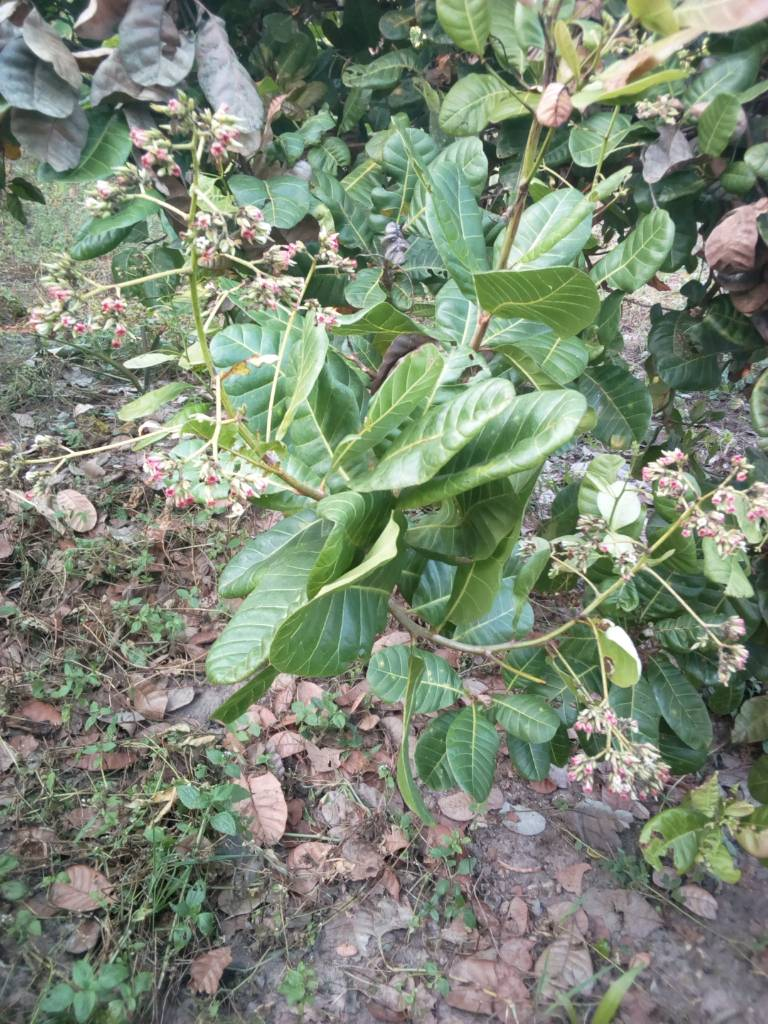Helopeltis anacardii: (361, 372, 508, 489), (268, 583, 394, 682)
